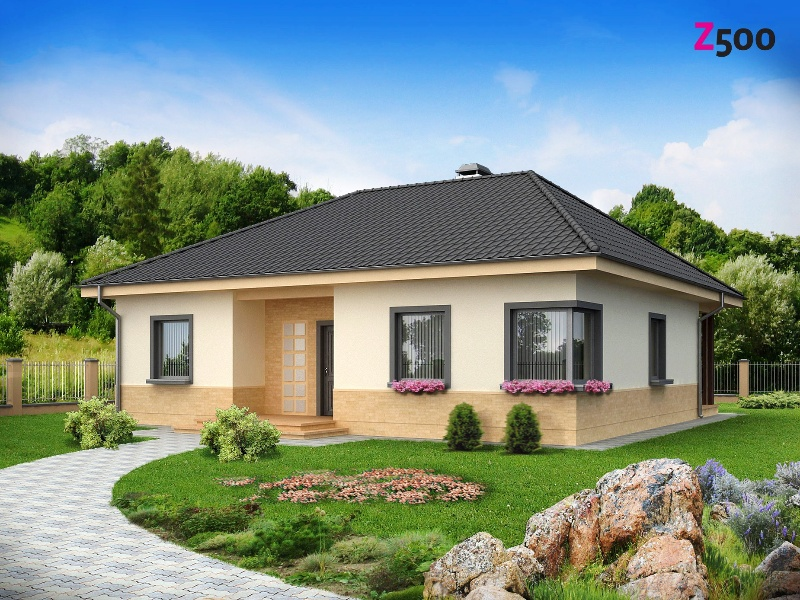window: (499, 298, 606, 387), (385, 292, 456, 388), (145, 302, 191, 389)
